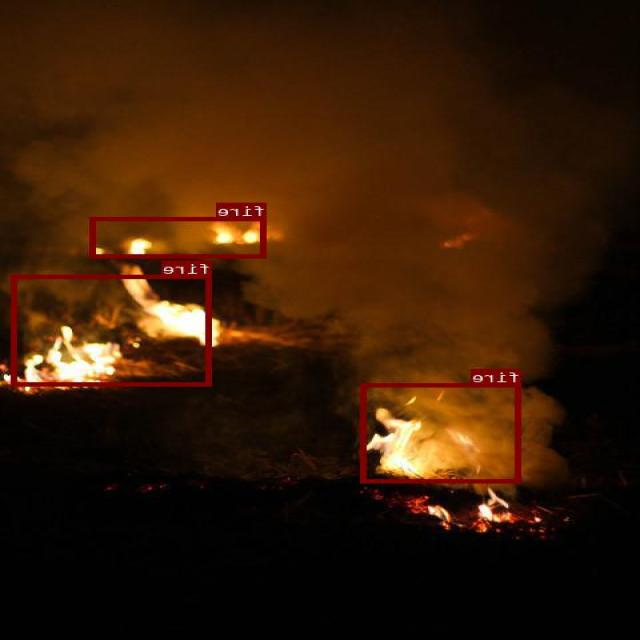fire: (12, 274, 213, 385), (362, 382, 522, 483), (92, 216, 268, 258)
